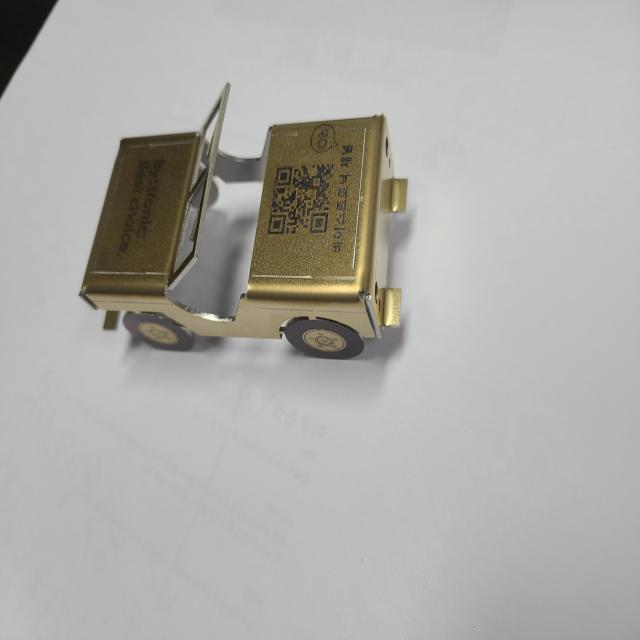tire: (286, 318, 364, 361), (124, 311, 195, 352)
